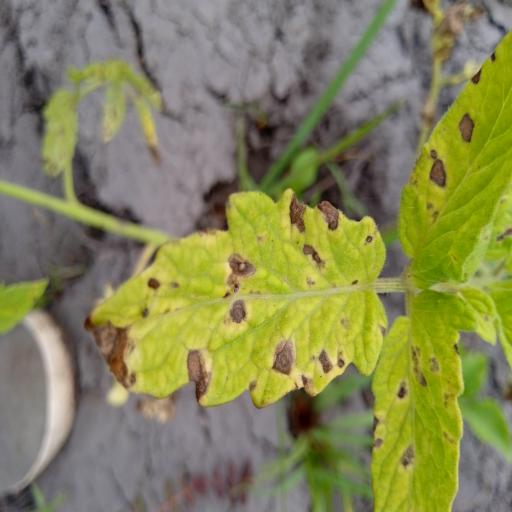Tomato_Brown_Spots: (80, 186, 390, 414), (397, 26, 512, 282), (371, 302, 466, 512)
